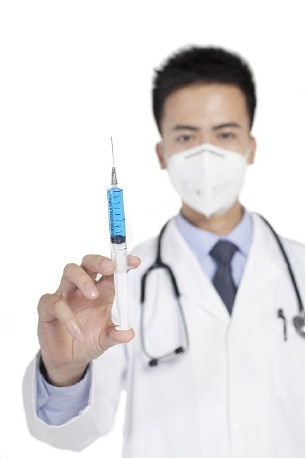Mask: (161, 121, 252, 212)
